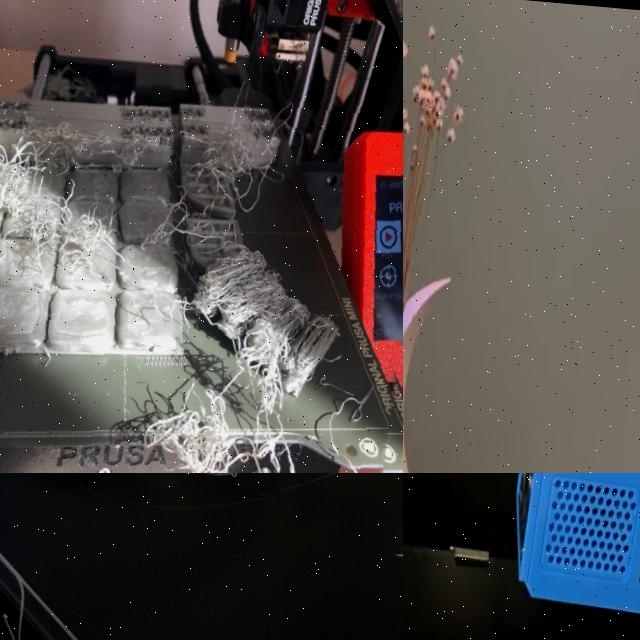spaghetti: (0, 69, 403, 473), (176, 473, 403, 508)
